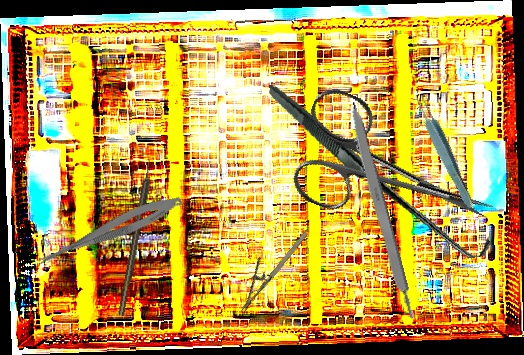Hook Surgical: (269, 52, 492, 288), (116, 157, 156, 317)
Iris Scissors: (280, 83, 512, 264)
Micro Scissor: (28, 188, 186, 278)
Needle Holder: (224, 220, 311, 314)
Scalpel Handle: (343, 99, 418, 324)
Tissue Forceps: (410, 90, 479, 212)
